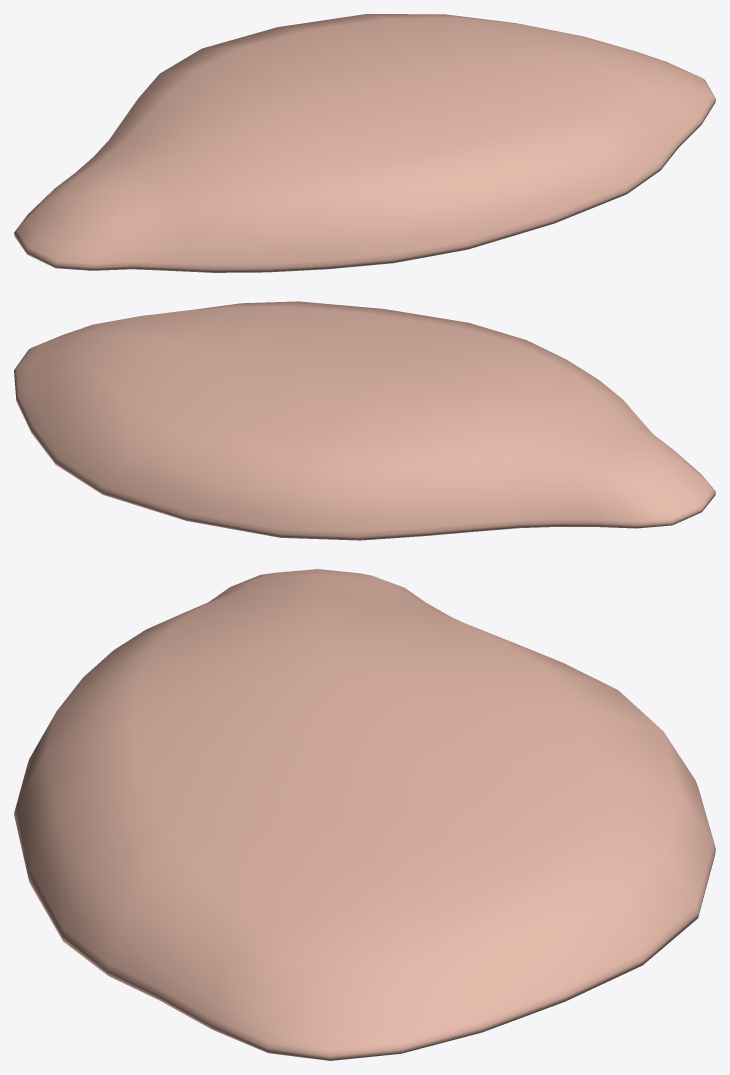
Rendered from Chicken.FBX.
3 views of the same model, one above another, from view 1: azimuth 30°, elevation 25°; view 2: azimuth 150°, elevation 25°; view 3: azimuth 270°, elevation 25° (orthographic). The views are drawn at different scales.
Visible parts, largest first — view 1: Box001; view 2: Box001; view 3: Box001.
Part boxes in pixels (x1,y1,x2,y2): Box001: [14, 14, 715, 272]; Box001: [14, 301, 715, 540]; Box001: [14, 569, 715, 1060].
Bounding box in the file's own units: 0.5916 × 0.3697 × 0.0648.
